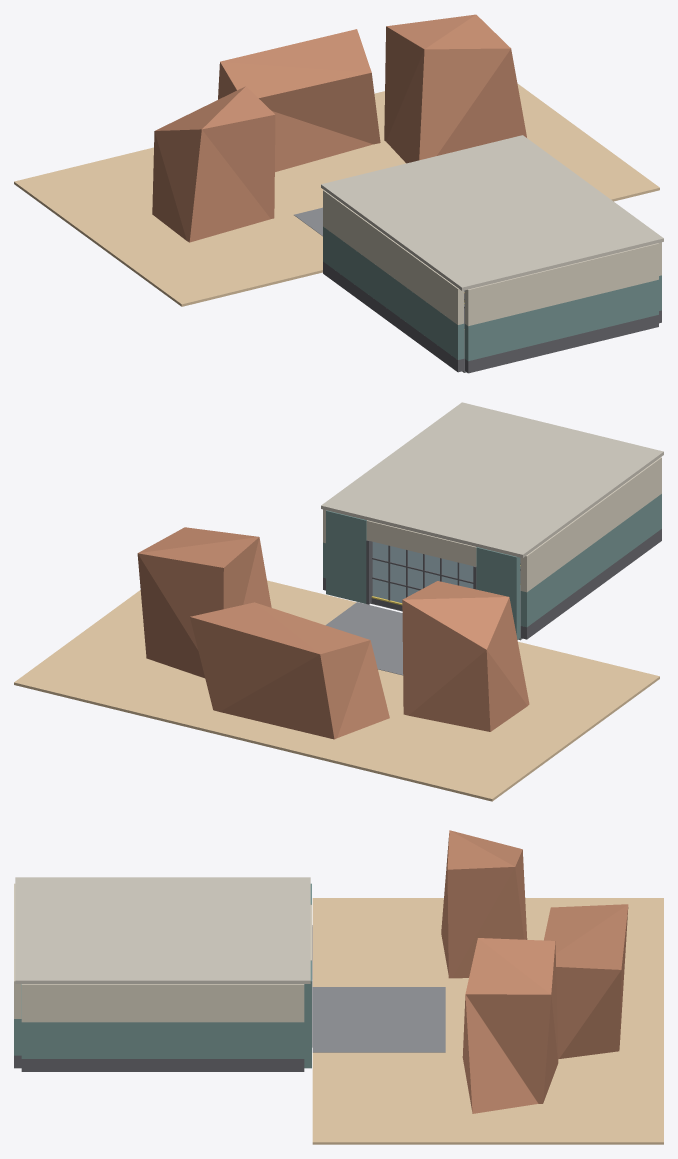
Rendered from lobby_garage.glb.
3 renders of one model, top to bottom at view 1: azimuth 30°, elevation 25°; view 2: azimuth 150°, elevation 25°; view 3: azimuth 270°, elevation 25°, orthographic. The views are drawn at different scales.
Visible parts, largest first — view 1: LobbyGarage; view 2: LobbyGarage; view 3: LobbyGarage.
Part boxes in pixels (box(x1,y1,x2,y2)): LobbyGarage: box(14, 14, 663, 373); LobbyGarage: box(14, 402, 663, 801); LobbyGarage: box(14, 830, 663, 1144).
Size of what is drawn, in the model's own units: 90 by 22.39 by 101.
